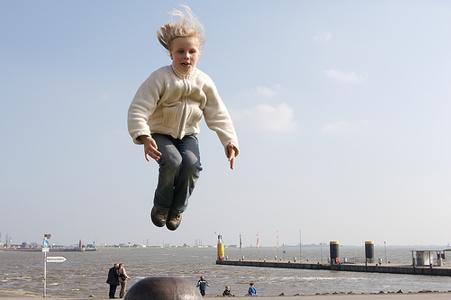person: (125, 21, 239, 232)
